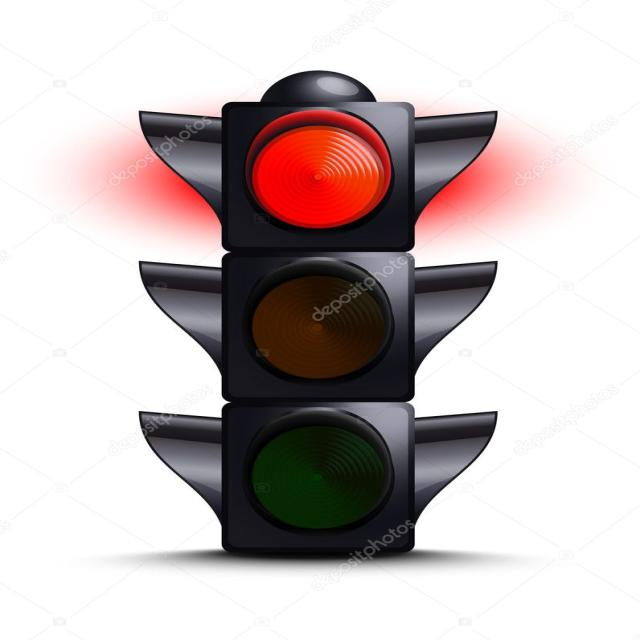red: (256, 115, 388, 224)
